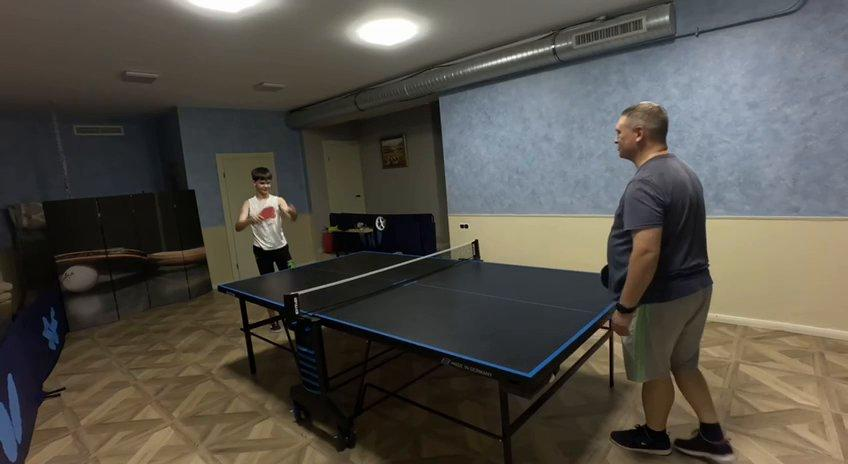Net: (282, 241, 480, 318)
Player1: (235, 167, 296, 274)
Player2: (607, 102, 733, 461)
Table: (223, 249, 627, 372)
